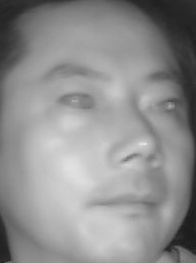eye: (54, 87, 101, 116), (147, 92, 185, 118)
mouth: (86, 184, 162, 226)
